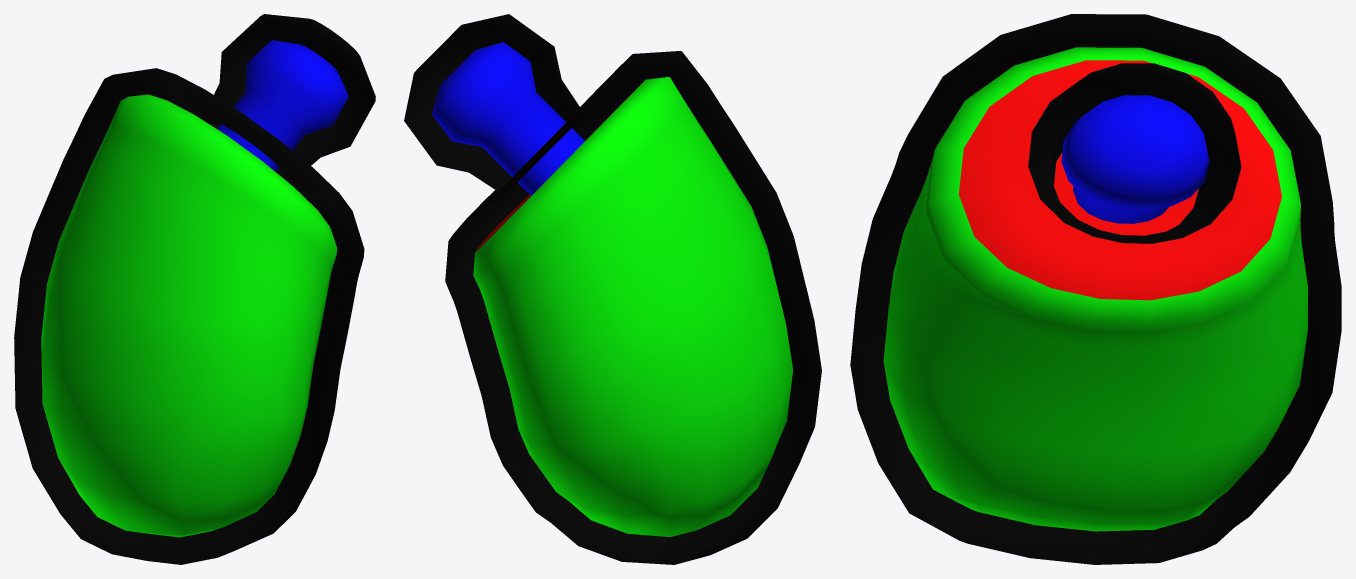
Rendered from arm.fbx.
3 views of the same model, side by side, from view 1: azimuth 30°, elevation 25°; view 2: azimuth 150°, elevation 25°; view 3: azimuth 270°, elevation 25° (orthographic). The views are drawn at different scales.
Parts seen in each view (by area): view 1: Cube; view 2: Cube; view 3: Cube.
Boxes of the visible parts, box(x1,y1,x2,y2) form: Cube: box(14, 14, 375, 564); Cube: box(404, 14, 821, 564); Cube: box(850, 14, 1341, 564).
Bounding box in the file's own units: 69.28 × 93.53 × 72.89.
